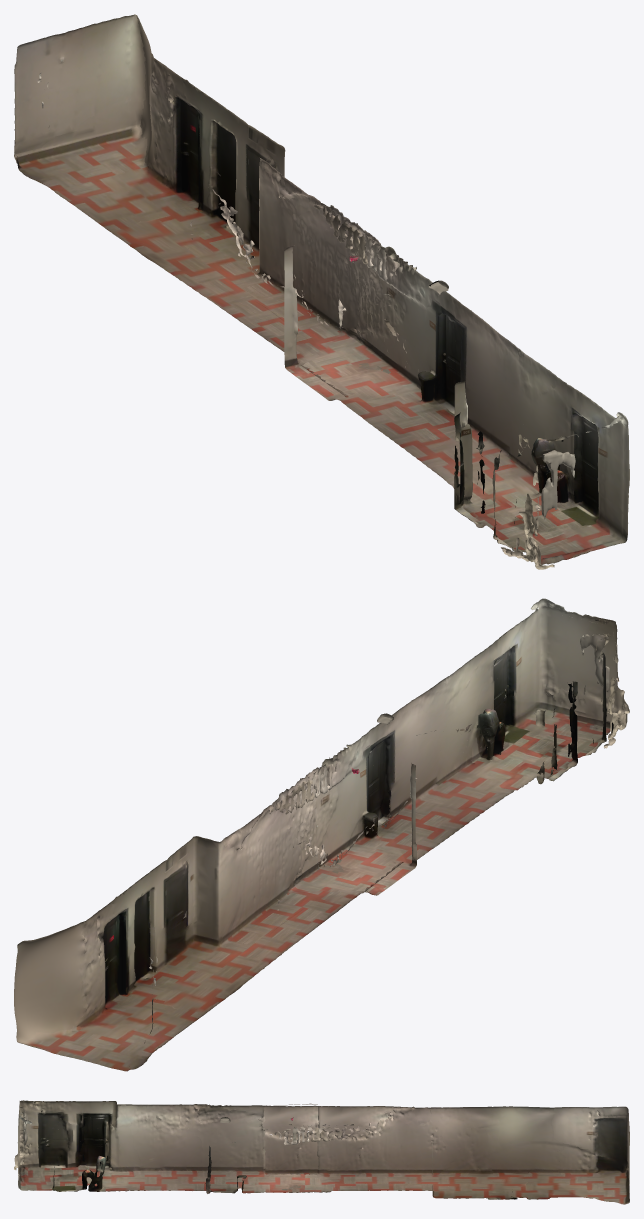
File: Hallway2.glb
3 renders of one model, top to bottom at view 1: azimuth 30°, elevation 25°; view 2: azimuth 150°, elevation 25°; view 3: azimuth 270°, elevation 25°, orthographic. The views are drawn at different scales.
Visible parts, largest first — view 1: Mesh_1; view 2: Mesh_1; view 3: Mesh_1.
Boxes of the visible parts, x1=… form: Mesh_1: x1=14, y1=14, x2=629, y2=569; Mesh_1: x1=14, y1=598, x2=629, y2=1071; Mesh_1: x1=14, y1=1100, x2=629, y2=1204.
Bounding box in the file's own units: 3.83 × 2.96 × 22.4.
Materials: 3 (3 with a texture image).
